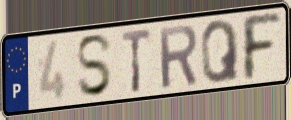4: (36, 37, 69, 104)
F: (239, 12, 284, 84)
Q: (199, 18, 241, 86)
R: (157, 22, 199, 91)
S: (75, 32, 115, 100)
T: (119, 26, 153, 95)
